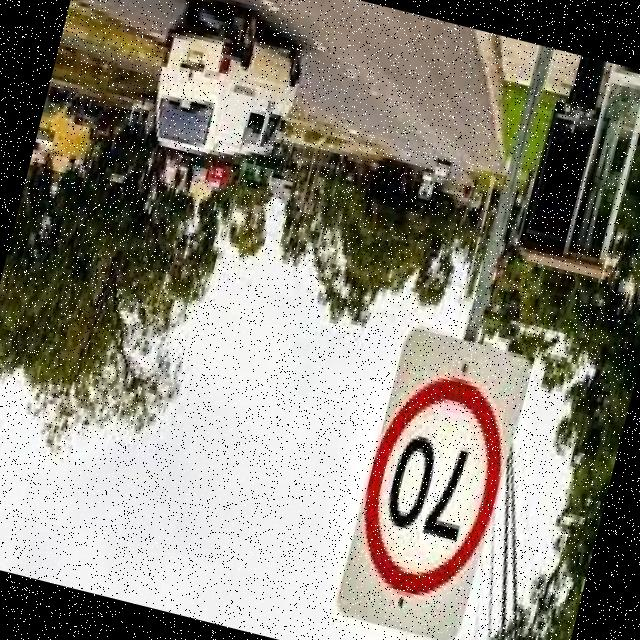speed_limit_70: (343, 363, 523, 614)
